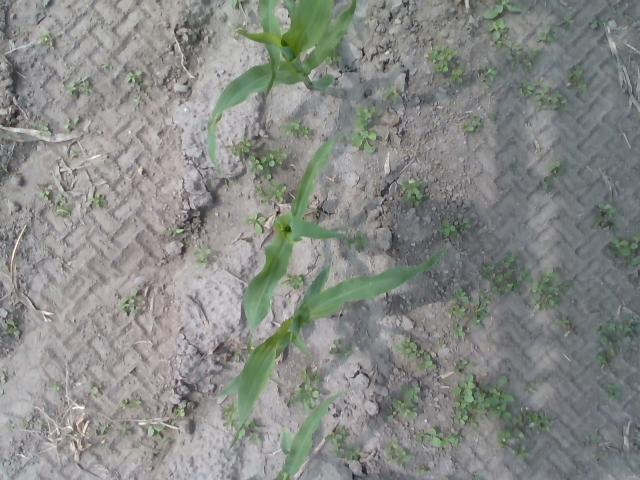Maize: (211, 244, 449, 457), (203, 0, 356, 181), (242, 134, 346, 386), (272, 388, 350, 480), (256, 0, 296, 99)
Weeds: (452, 374, 514, 430), (491, 252, 532, 296), (289, 366, 322, 410), (350, 106, 380, 154), (528, 268, 560, 312), (246, 146, 286, 181), (595, 322, 623, 368), (535, 78, 569, 114), (512, 410, 551, 437), (506, 43, 542, 72), (417, 427, 462, 448), (393, 384, 420, 419), (484, 16, 512, 48), (426, 46, 458, 74), (385, 437, 413, 468), (470, 289, 492, 328), (609, 232, 640, 258), (394, 334, 424, 360), (116, 291, 146, 316), (482, 0, 521, 19), (280, 117, 310, 140), (401, 180, 426, 207), (590, 203, 616, 228), (566, 64, 588, 92), (264, 179, 288, 203), (51, 193, 74, 218), (220, 400, 239, 430), (238, 418, 261, 442), (243, 212, 268, 234), (478, 64, 498, 91), (330, 444, 360, 462), (66, 76, 91, 97), (496, 424, 516, 449), (347, 231, 369, 253), (324, 40, 344, 64), (328, 339, 352, 358), (192, 244, 211, 268), (554, 316, 580, 333), (535, 24, 557, 44), (382, 82, 402, 104), (227, 137, 250, 156), (460, 115, 482, 134), (324, 426, 346, 444), (622, 315, 640, 336), (416, 352, 437, 370), (436, 220, 459, 236), (604, 380, 622, 400), (511, 443, 531, 461), (146, 422, 166, 440), (447, 304, 468, 320), (7, 420, 30, 434), (525, 378, 541, 398), (453, 359, 474, 374), (38, 29, 55, 47), (286, 272, 304, 289), (547, 160, 566, 176), (449, 286, 468, 302), (5, 320, 24, 336), (30, 122, 51, 136), (518, 80, 534, 98), (85, 381, 103, 397), (125, 69, 144, 84), (120, 397, 143, 409), (118, 421, 133, 438), (578, 432, 599, 444), (90, 194, 108, 208), (39, 184, 53, 202), (451, 323, 466, 339), (228, 20, 242, 37), (92, 423, 108, 435), (562, 15, 575, 29), (541, 177, 555, 190), (166, 228, 184, 238), (0, 370, 7, 394), (450, 69, 462, 83), (628, 255, 640, 269), (558, 280, 572, 292), (482, 265, 494, 279), (172, 407, 186, 418), (387, 404, 396, 420), (471, 471, 487, 480), (458, 218, 472, 228), (230, 0, 244, 9), (102, 60, 114, 70), (64, 118, 71, 134), (490, 109, 499, 121), (254, 184, 264, 194), (416, 464, 426, 474), (589, 19, 598, 29), (50, 382, 60, 391), (1, 261, 9, 271), (232, 350, 240, 360), (260, 198, 270, 204), (70, 150, 78, 157), (0, 164, 7, 172), (134, 98, 140, 106), (443, 476, 451, 480)
